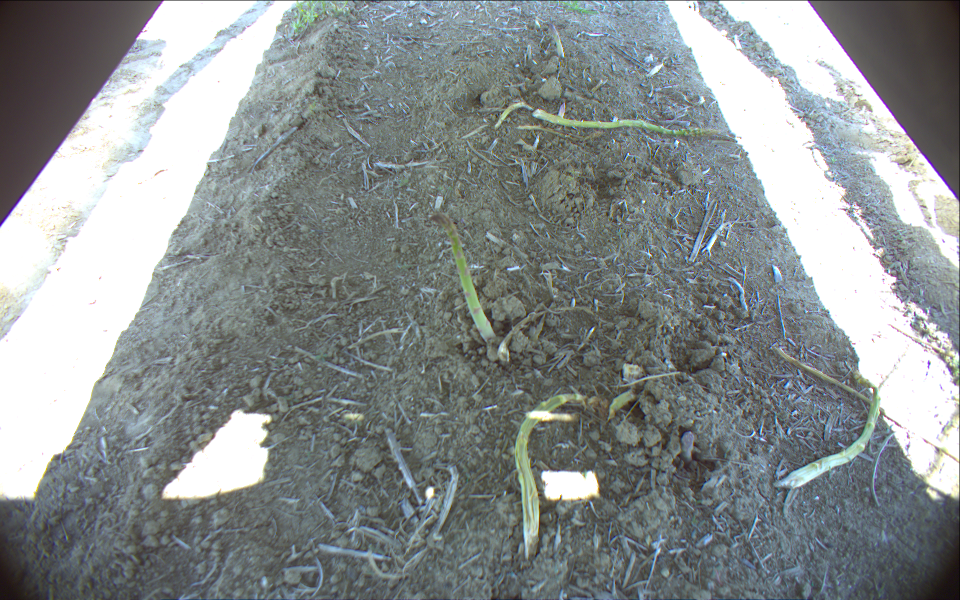aspa: (429, 212, 502, 348)
